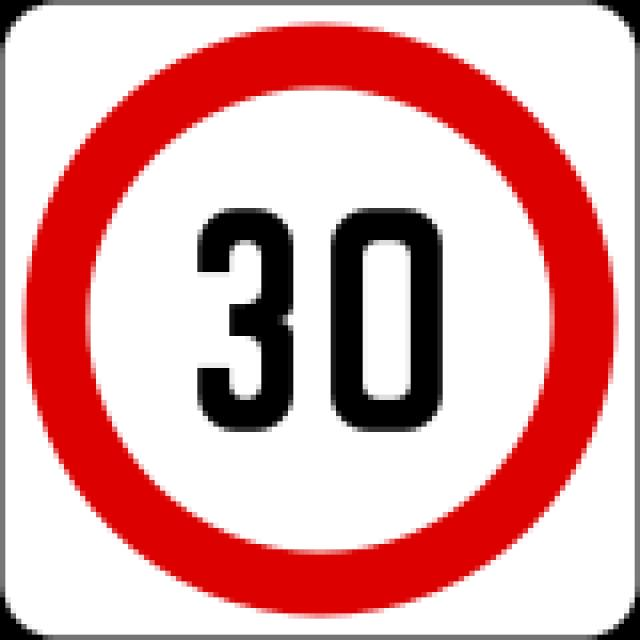Speed Limit -30-: (177, 183, 459, 449)
